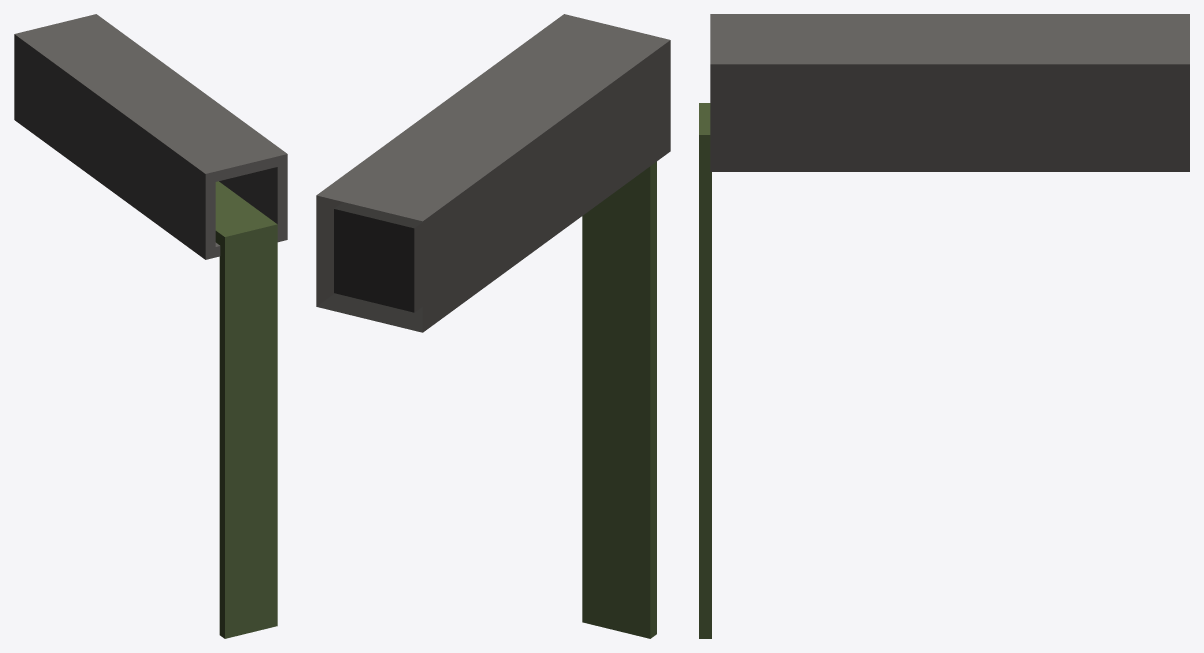
The model's file is AI_Env_Sewer_Pipe_02.fbx.
3 renders of one model, left to right at view 1: azimuth 30°, elevation 25°; view 2: azimuth 150°, elevation 25°; view 3: azimuth 270°, elevation 25°, orthographic. The views are drawn at different scales.
Parts seen in each view (by area): view 1: AI_Env_Sewer_Pipe_02; view 2: AI_Env_Sewer_Pipe_02; view 3: AI_Env_Sewer_Pipe_02.
Part boxes in pixels (x1=…): AI_Env_Sewer_Pipe_02: x1=14, y1=14, x2=287, y2=638; AI_Env_Sewer_Pipe_02: x1=316, y1=14, x2=670, y2=638; AI_Env_Sewer_Pipe_02: x1=699, y1=14, x2=1189, y2=638.
Bounding box in the file's own units: 0.4348 × 2.35 × 1.79.
